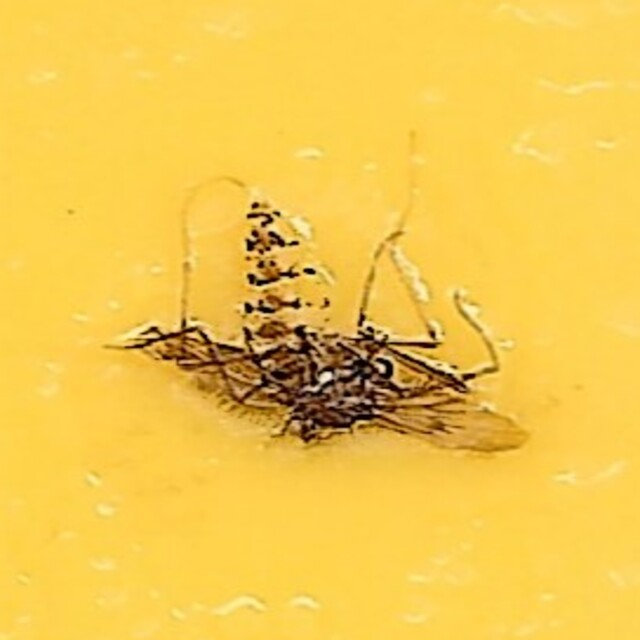Nematocera: (235, 195, 405, 445)
